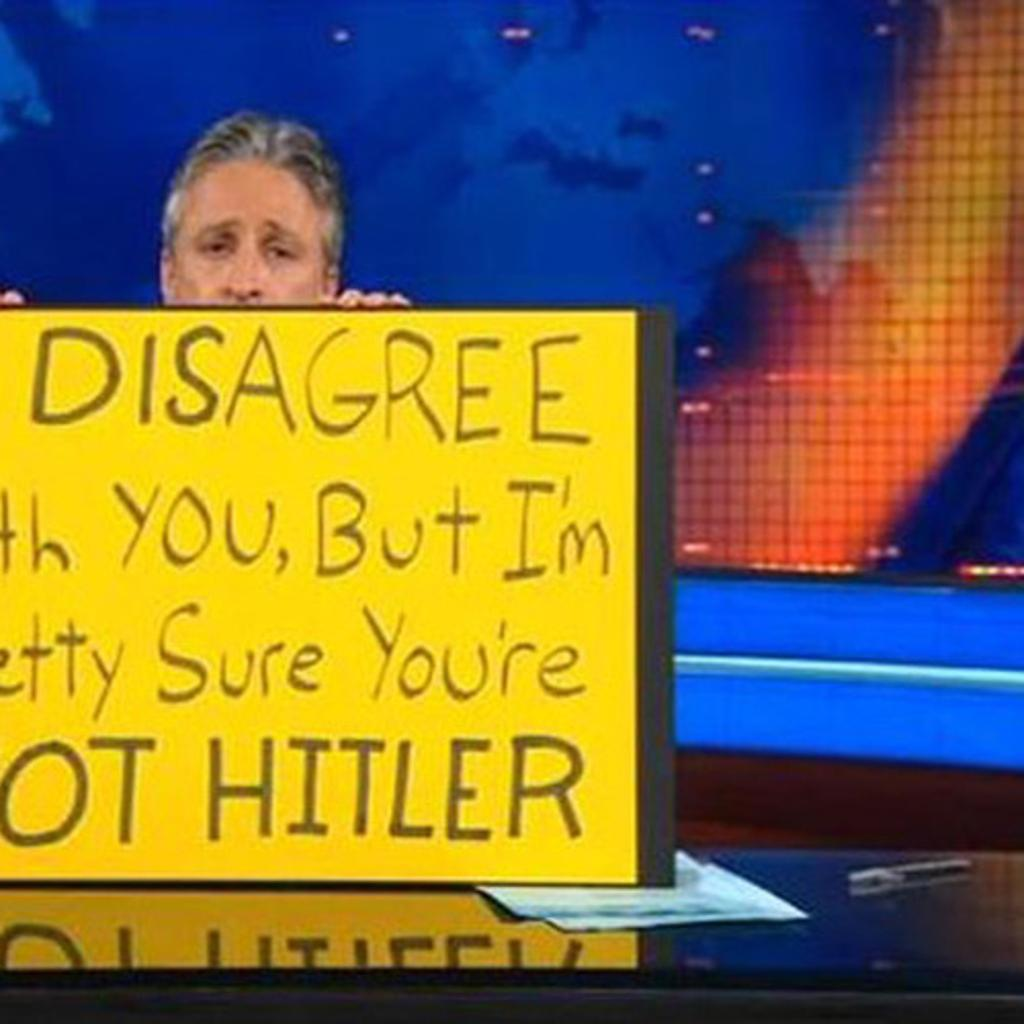face: (179, 167, 327, 371)
